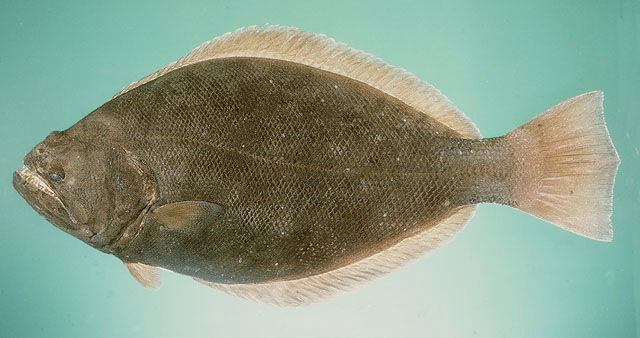fish: (12, 23, 622, 306)
